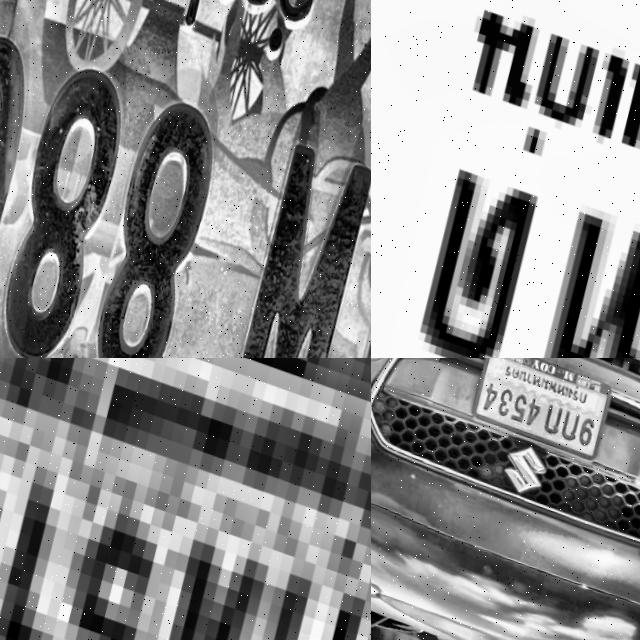license-plate: (0, 0, 371, 358), (0, 358, 371, 640), (371, 0, 640, 358), (463, 358, 617, 460)
